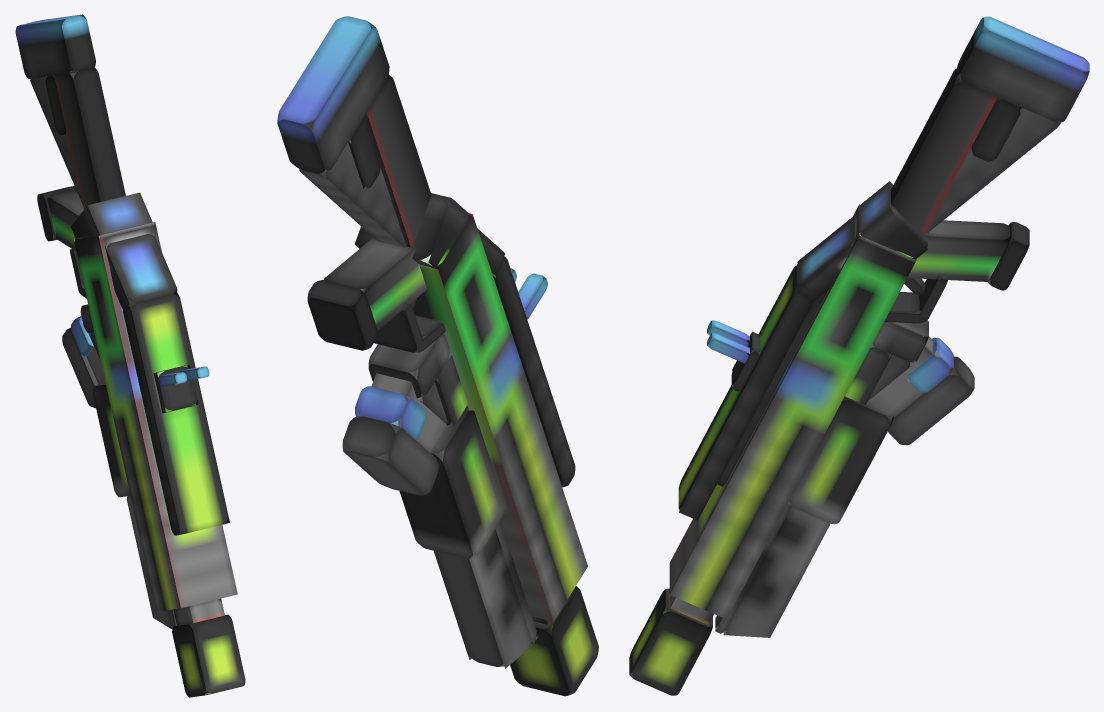
The model's file is S1_gun.fbx.
3 views of the same model, side by side, from view 1: azimuth 30°, elevation 25°; view 2: azimuth 150°, elevation 25°; view 3: azimuth 270°, elevation 25° (orthographic). The views are drawn at different scales.
Parts seen in each view (by area): view 1: Gun02; view 2: Gun02; view 3: Gun02.
Boxes of the visible parts, x1,y1,x2,y2 form: Gun02: [15, 14, 245, 697]; Gun02: [277, 16, 598, 696]; Gun02: [629, 16, 1089, 695].
Bounding box in the file's own units: 0.1278 × 0.7773 × 1.24.
